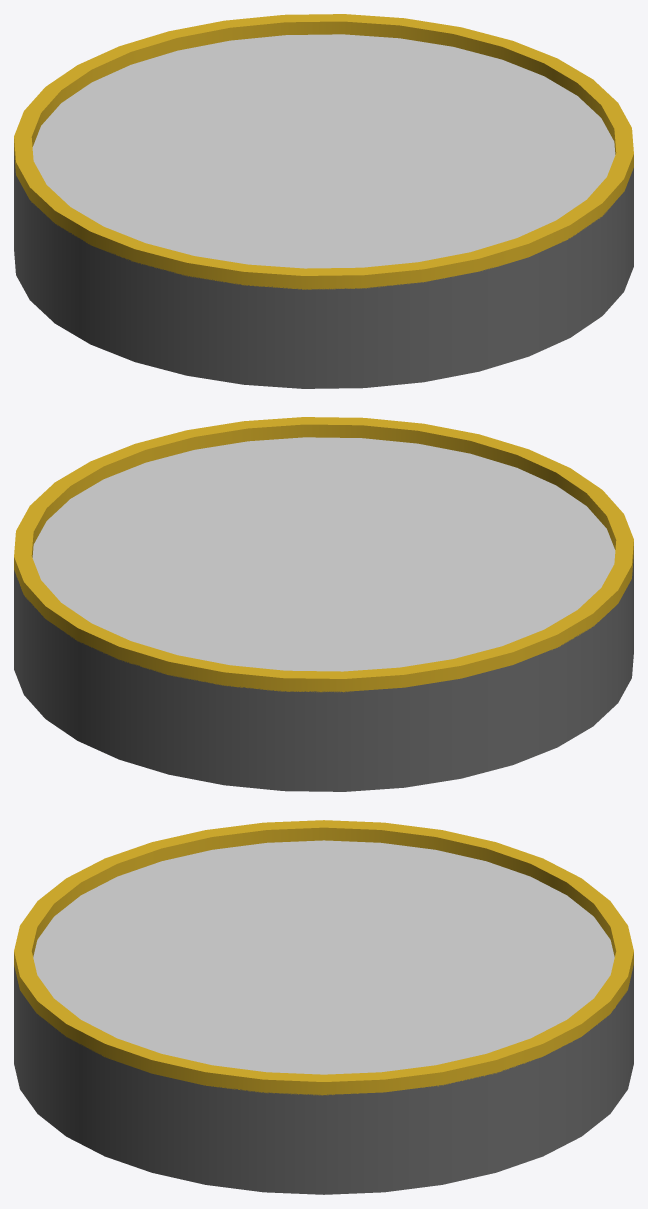
The model's file is Platform_Circle.fbx.
3 views of the same model, one above another, from view 1: azimuth 30°, elevation 25°; view 2: azimuth 150°, elevation 25°; view 3: azimuth 270°, elevation 25° (orthographic).
Parts seen in each view (by area): view 1: Platform_Circle; view 2: Platform_Circle; view 3: Platform_Circle.
Part boxes in pixels (box(x1,y1,x2,y2)): Platform_Circle: box(14, 14, 633, 388); Platform_Circle: box(14, 417, 633, 791); Platform_Circle: box(14, 820, 633, 1194).
Bounding box in the file's own units: 1755 × 352 × 1755.
